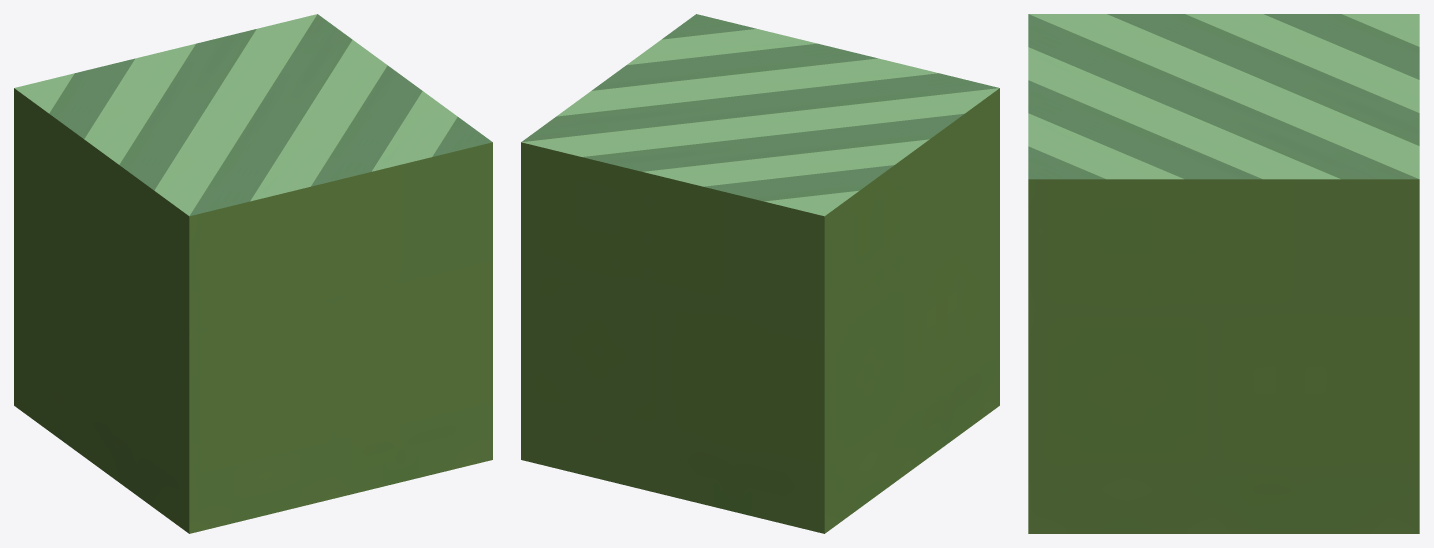
The picture shows the model from 3 angles, left to right: view 1: azimuth 30°, elevation 25°; view 2: azimuth 150°, elevation 25°; view 3: azimuth 270°, elevation 25°; orthographic projection. The views are drawn at different scales.
Parts seen in each view (by area): view 1: Cube_01_02; view 2: Cube_01_02; view 3: Cube_01_02.
Boxes of the visible parts, <box> form: Cube_01_02: <box>14,14,492,533</box>; Cube_01_02: <box>521,14,999,533</box>; Cube_01_02: <box>1028,14,1419,533</box>.
Size of the model in its own units: 24 by 24 by 24.
